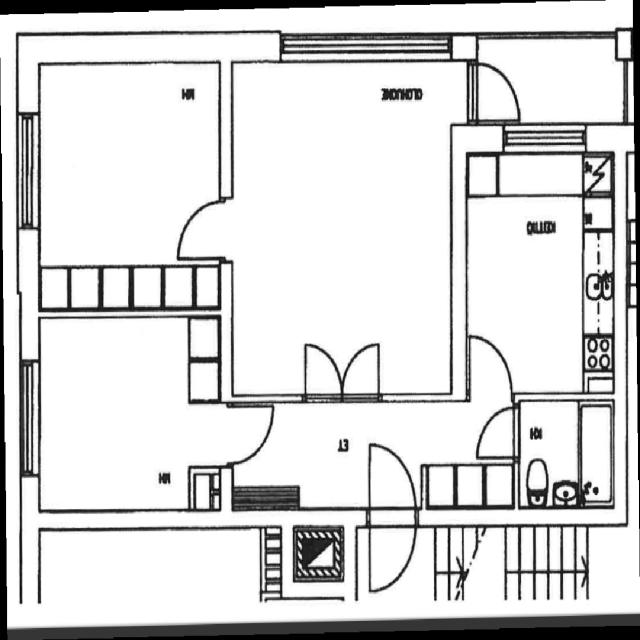door: (364, 438, 424, 597), (290, 336, 388, 400), (168, 183, 230, 268), (468, 57, 529, 130), (460, 325, 513, 401), (224, 399, 282, 468), (472, 396, 521, 469)
window: (260, 20, 454, 66), (5, 105, 48, 248), (11, 347, 48, 496), (487, 116, 601, 159)
zone: (216, 56, 466, 414), (25, 54, 228, 316), (462, 140, 629, 404), (31, 316, 235, 530), (514, 394, 620, 520)
